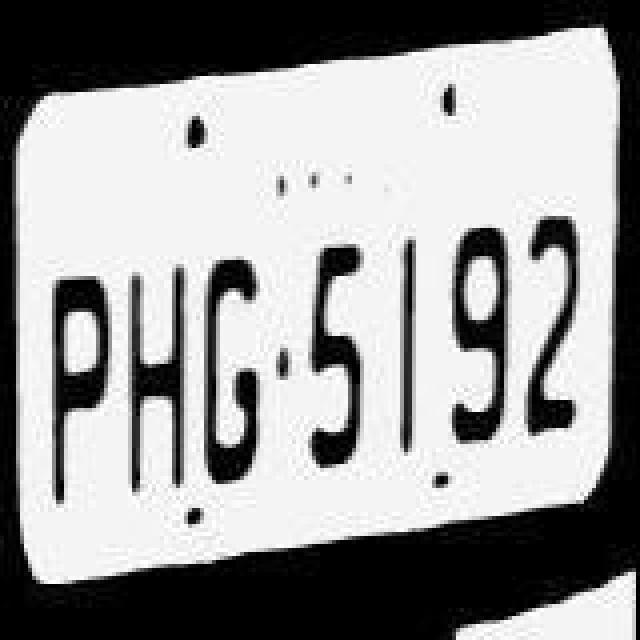1: (382, 230, 438, 490)
2: (520, 210, 588, 478)
5: (300, 242, 376, 502)
9: (442, 218, 514, 486)
G: (202, 236, 274, 516)
H: (122, 246, 194, 514)
P: (48, 250, 124, 518)
